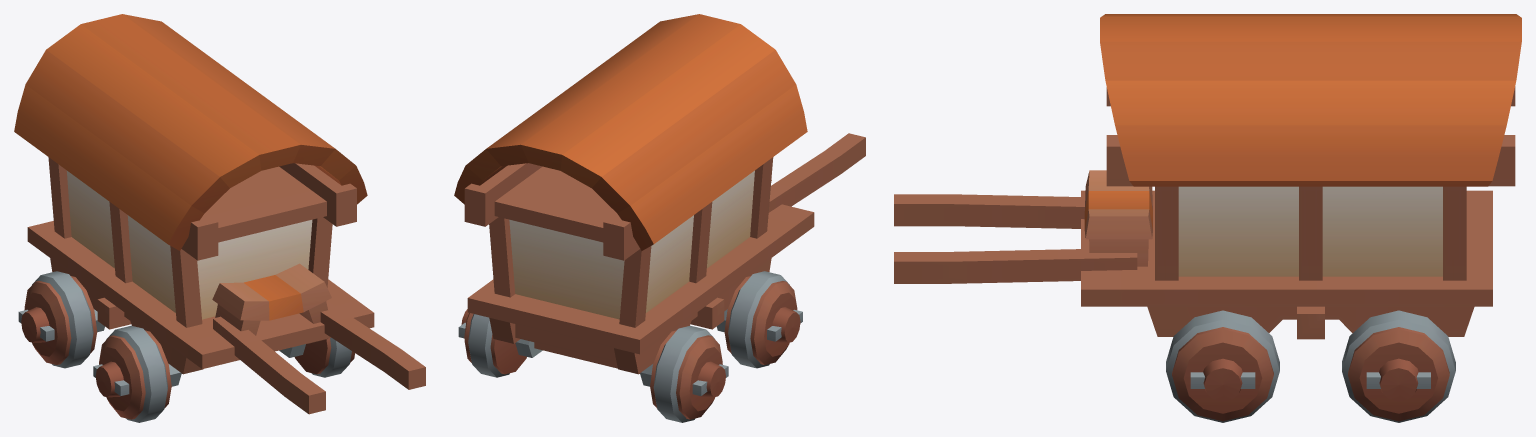
File: cart.glb
3 renders of one model, left to right at view 1: azimuth 30°, elevation 25°; view 2: azimuth 150°, elevation 25°; view 3: azimuth 270°, elevation 25°, orthographic. The views are drawn at different scales.
Parts seen in each view (by area): view 1: cart, cart_axle_front, cart_axle_rear; view 2: cart, cart_axle_rear, cart_axle_front; view 3: cart, cart_axle_front, cart_axle_rear.
Part boxes in pixels (left/top/right/bottom): cart: left=14, top=14, right=425, bottom=414; cart_axle_front: left=93, top=325, right=354, bottom=422; cart_axle_rear: left=18, top=271, right=104, bottom=368; cart: left=454, top=14, right=865, bottom=374; cart_axle_rear: left=458, top=309, right=728, bottom=422; cart_axle_front: left=716, top=271, right=802, bottom=368; cart: left=894, top=14, right=1521, bottom=339; cart_axle_front: left=1166, top=310, right=1279, bottom=422; cart_axle_rear: left=1342, top=310, right=1455, bottom=422.
Size of the model in its own units: 0.7078 by 0.7704 by 1.31.
1 material, 1 textured.
